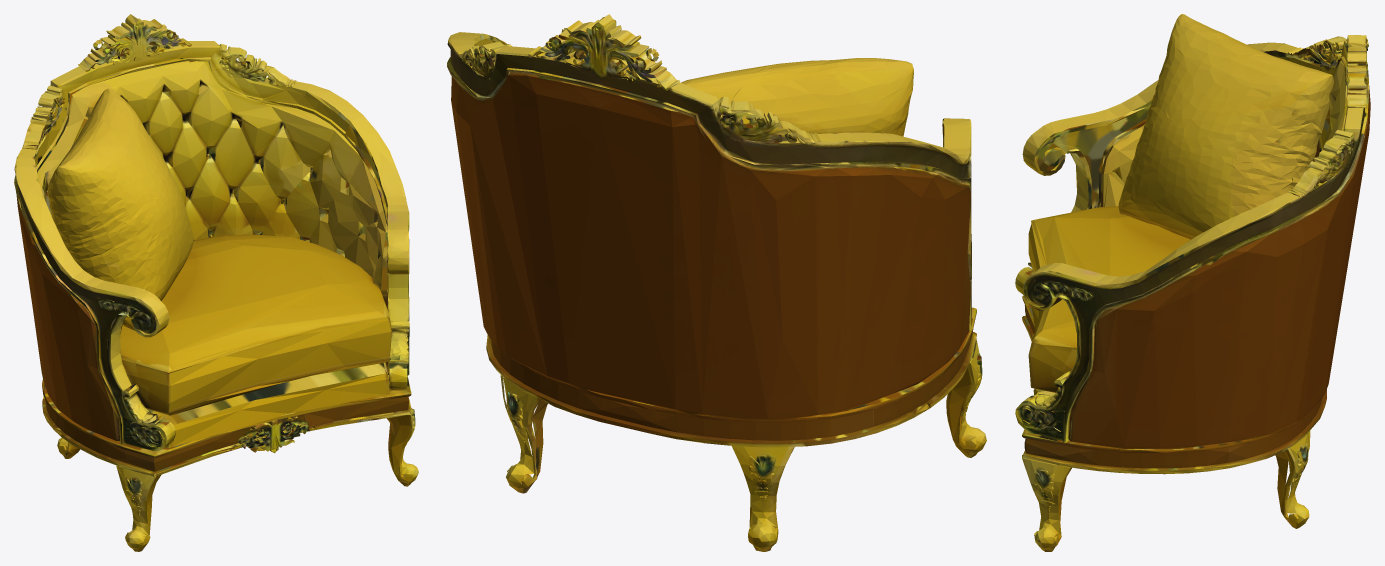
The model's file is edited_mesh.glb.
3 views of the same model, side by side, from view 1: azimuth 30°, elevation 25°; view 2: azimuth 150°, elevation 25°; view 3: azimuth 270°, elevation 25° (orthographic). The views are drawn at different scales.
Visible parts, largest first — view 1: solid_001_wire; view 2: solid_001_wire; view 3: solid_001_wire.
Boxes of the visible parts, x1,y1,x2,y2 form: solid_001_wire: [14, 14, 418, 551]; solid_001_wire: [447, 14, 986, 551]; solid_001_wire: [1015, 14, 1370, 551].
Size of the model in its own units: 1.26 by 1.37 by 0.9974.
Materials: 1 (1 with a texture image).
